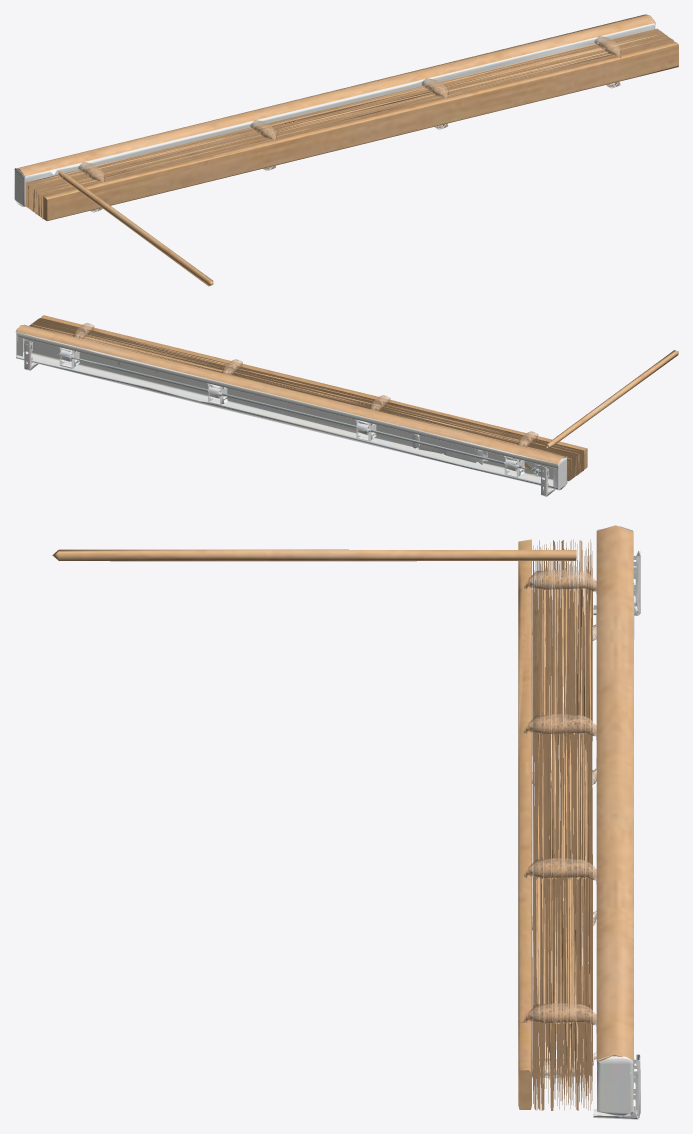
File: vecklarfly_zaluzje_30616308.glb
3 views of the same model, one above another, from view 1: azimuth 30°, elevation 25°; view 2: azimuth 150°, elevation 25°; view 3: azimuth 270°, elevation 25° (orthographic). The views are drawn at different scales.
Parts seen in each view (by area): view 1: vecklarfly_zaluzje_30616308; view 2: vecklarfly_zaluzje_30616308; view 3: vecklarfly_zaluzje_30616308.
Part boxes in pixels (bbox=[...]): vecklarfly_zaluzje_30616308: bbox=[14, 14, 678, 286]; vecklarfly_zaluzje_30616308: bbox=[15, 315, 678, 496]; vecklarfly_zaluzje_30616308: bbox=[52, 525, 640, 1119].
Bounding box in the file's own units: 1.41 × 0.0933 × 0.6564.
2 materials, 2 textured.
